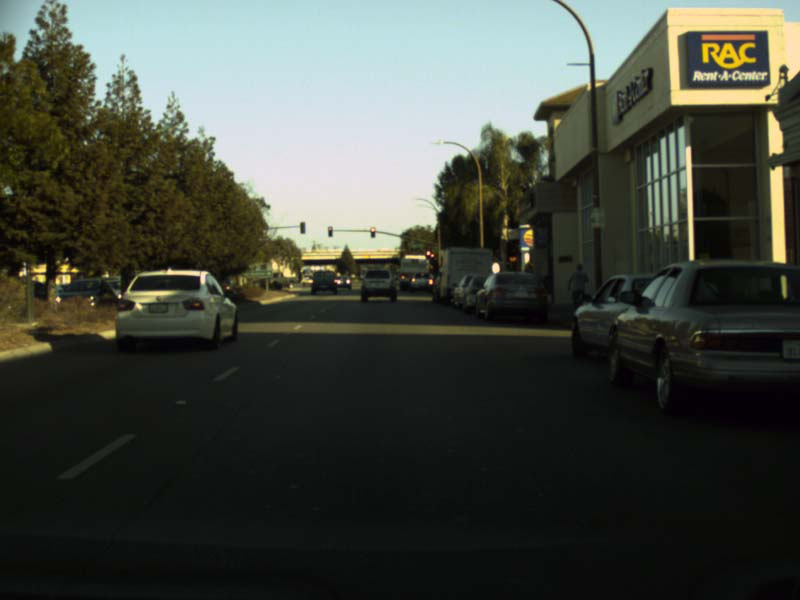Red: (425, 249, 434, 257), (327, 226, 333, 237), (370, 227, 375, 237)
